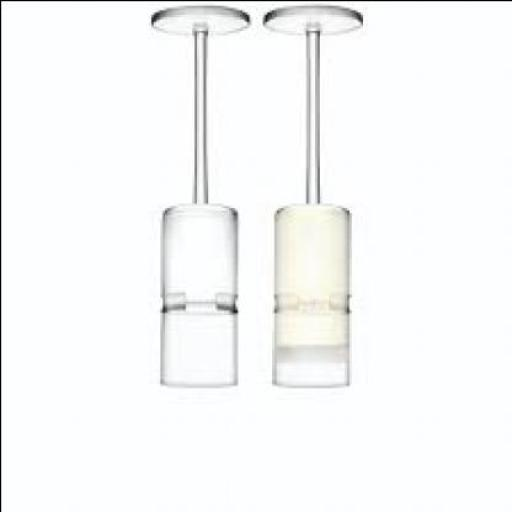glass: (150, 5, 255, 389), (264, 2, 364, 389)
